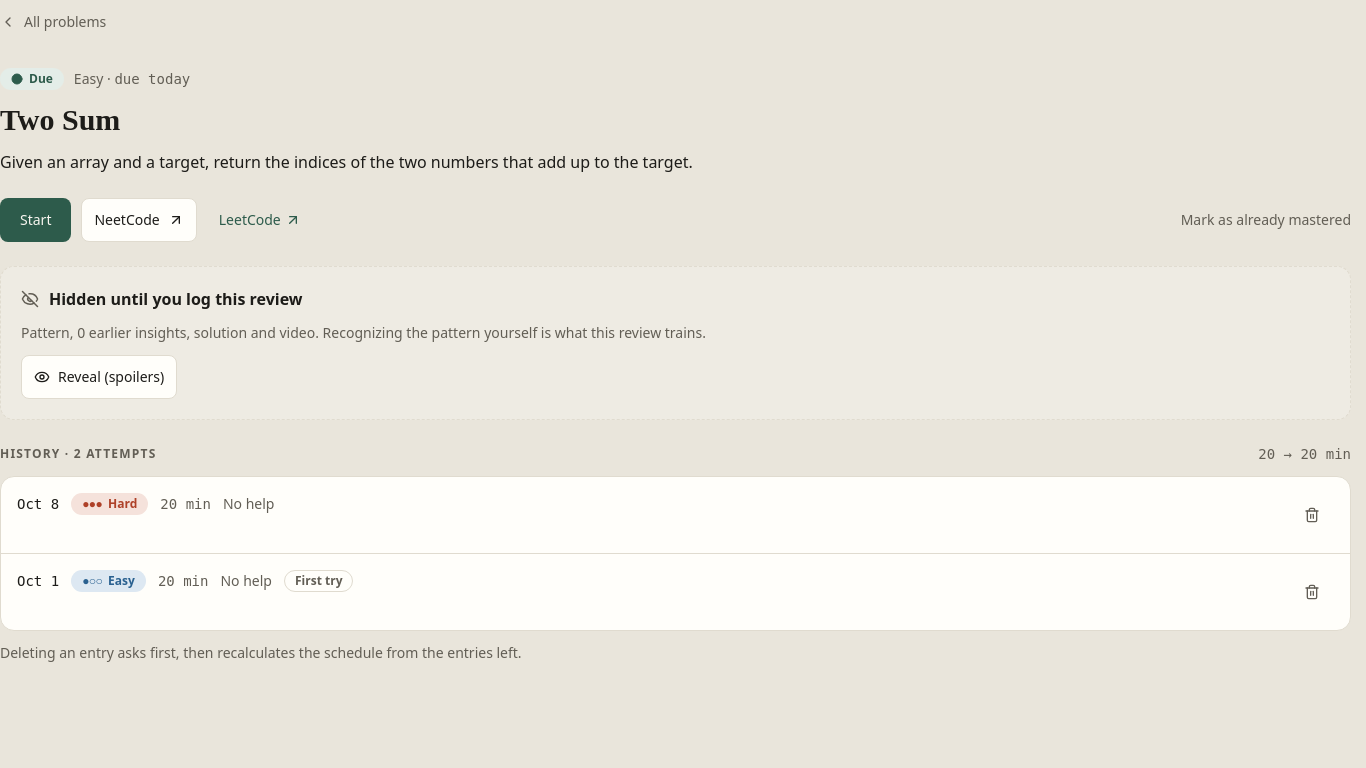
Test: ProblemDetailPage › restores the previous status and due date after deleting the latest attempt
Expected: the text "Due" is shown, [0,68,64,90]
Click the button named "Delete the Oct 8 attempt" in the row of "Oct 8": (1312, 515) [1290,493,1334,537]
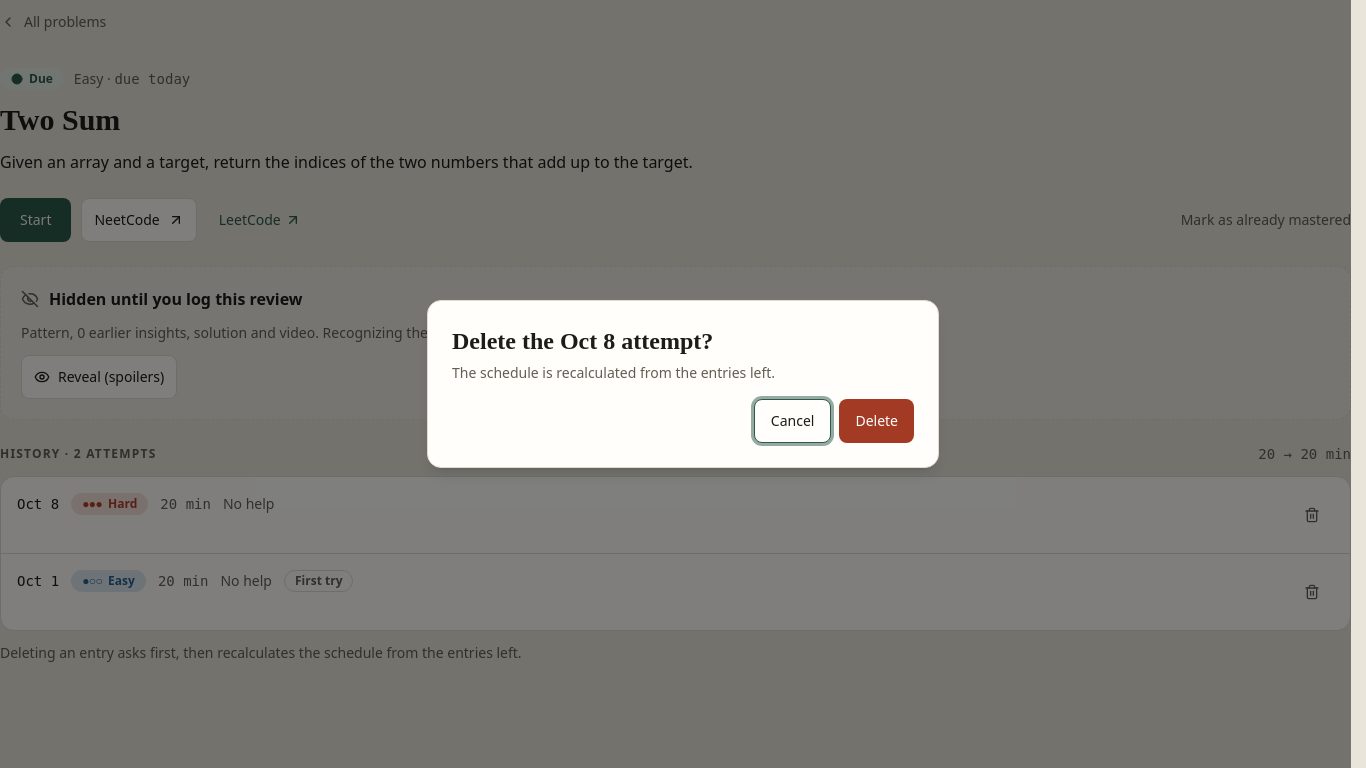
Click the button "Delete": (877, 421) [839,399,914,443]
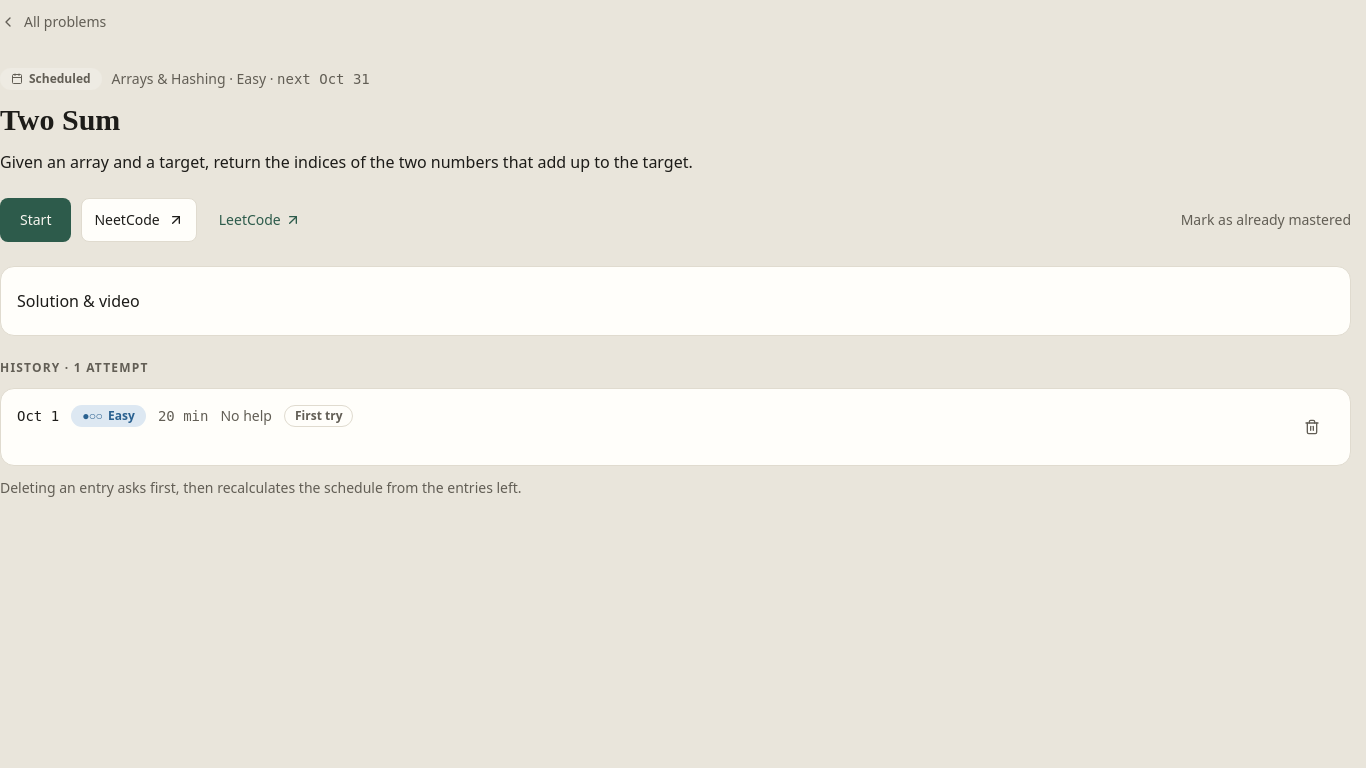
Now the text "Scheduled" is shown, box [0,68,102,90]
Now the text "next Oct 31" is shown, box [277,71,370,87]
Now the number of list items is 1, box [17,405,1334,449]
